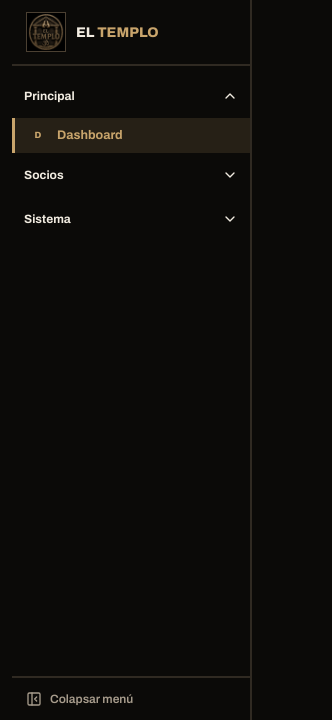
Test: Sidebar — filtrado por permiso y feature › despliega Socios al pulsar y cierra el segmento anterior
The image size is (332, 720).
Expected: the link "Deudores" is not shown
Click the button "Socios".
click(131, 175)  # box [12, 153, 250, 197]
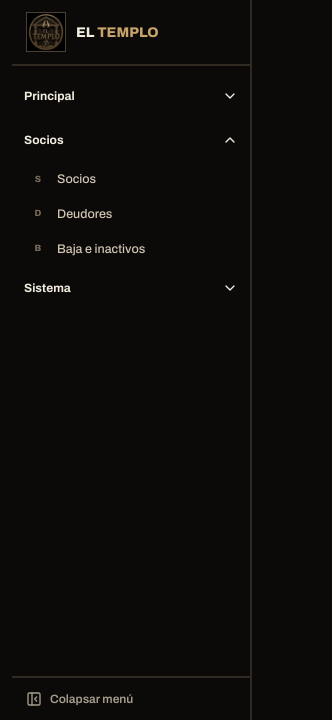
Expected: the button "Socios" is expanded, [12, 118, 250, 162]
Expected: the link "Dashboard" is gone
Expected: the link "S Socios" is shown, [35, 172, 96, 186]
